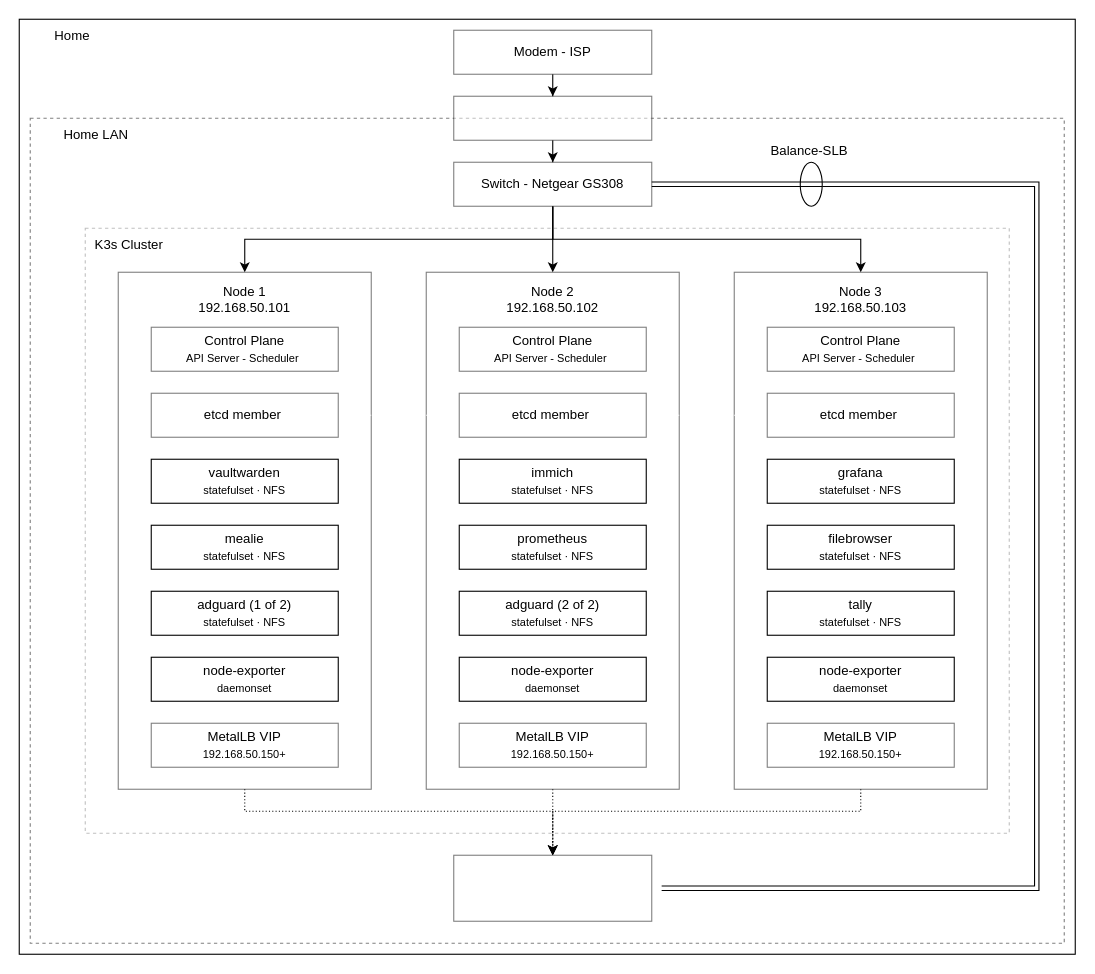
Some shapes in this 1095 by 974 pixel diagram are drawn without their labels. Each missing label, with the box of its shape:
NAS - Synology DS418 NFS - all persistent volumes: (453, 854, 652, 921)
Router - ASUS RT-AX82U: (453, 95, 652, 140)
